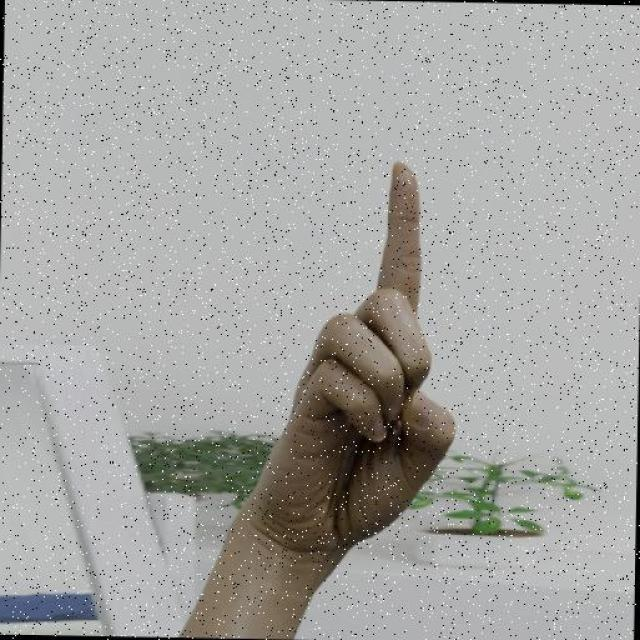D: (225, 156, 464, 560)
